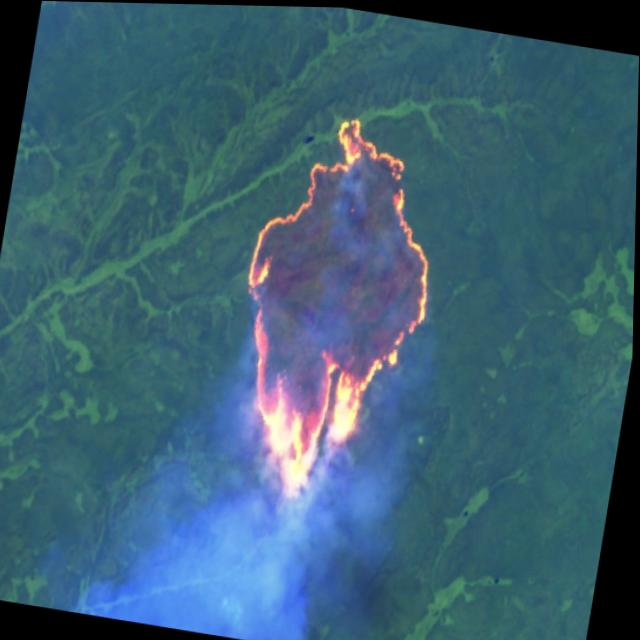fire: (209, 92, 463, 524)
